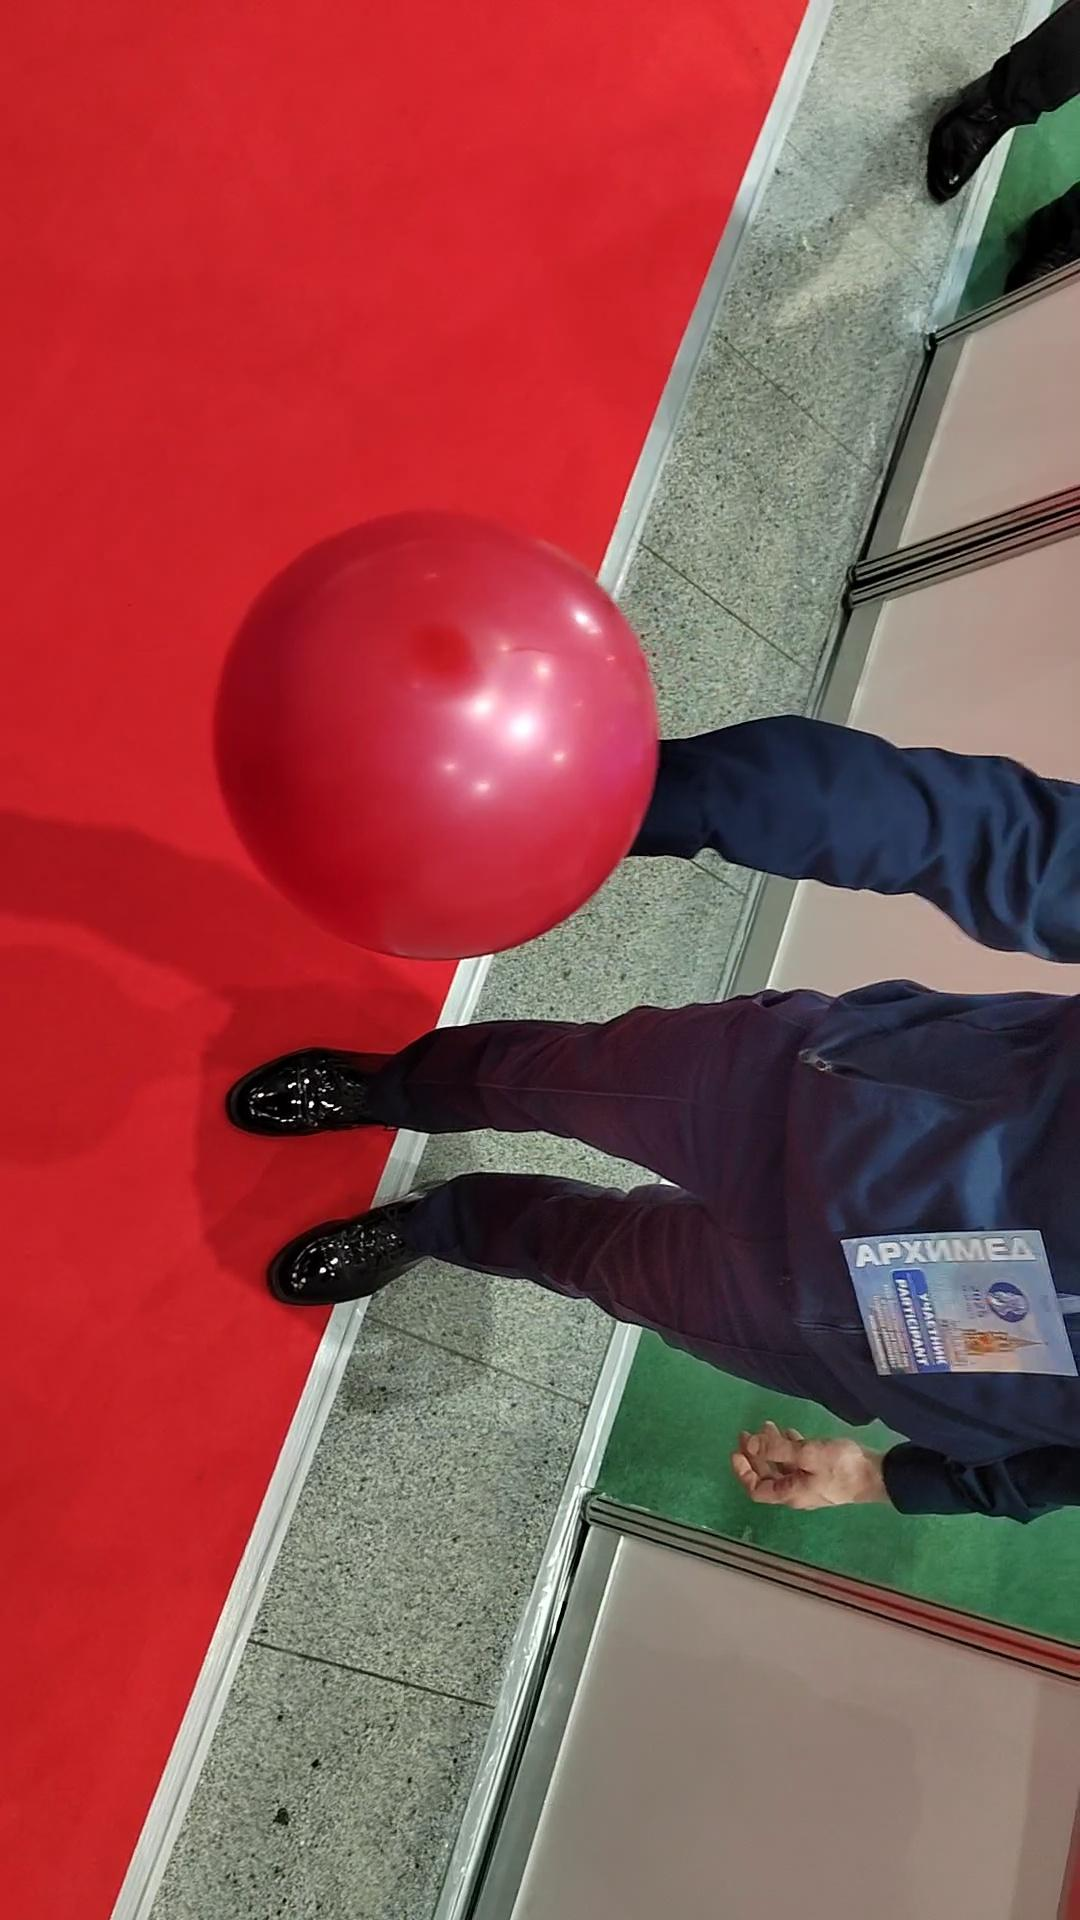red: (196, 502, 665, 968)
